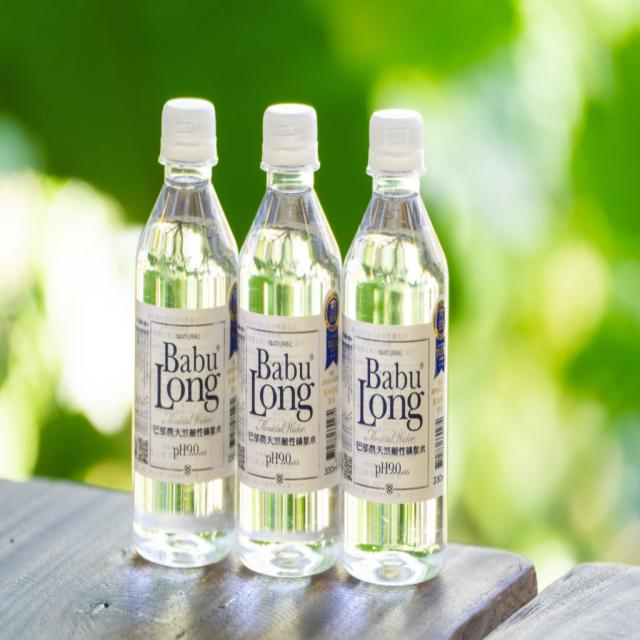plastic: (340, 112, 450, 586), (234, 96, 338, 588), (130, 100, 237, 566)
